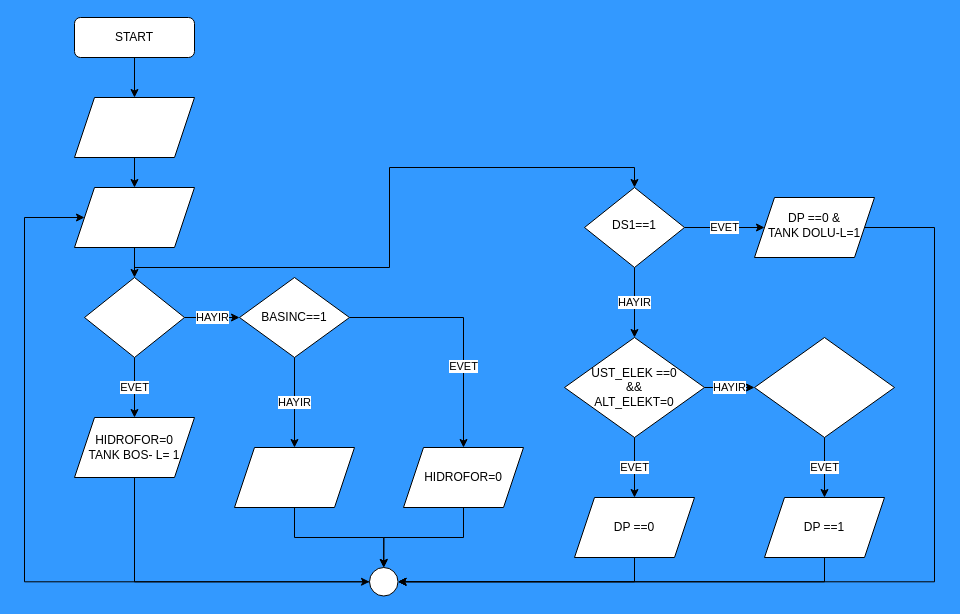
Image size: 960x614. Some labels were removed from this diagram. The shapes that lost their labels are listed below. From the top down, each one's box as (x1, y1, x2, y2) in pixels, then its label:
(74, 96, 194, 158): IO TANIMLA
(74, 186, 194, 248): IO OKU
(84, 276, 184, 358): DS2==0
(754, 336, 894, 438): UST_ELEK ==1 && ALT_ELEKT=1
(234, 446, 354, 508): HIDROFOR=1
